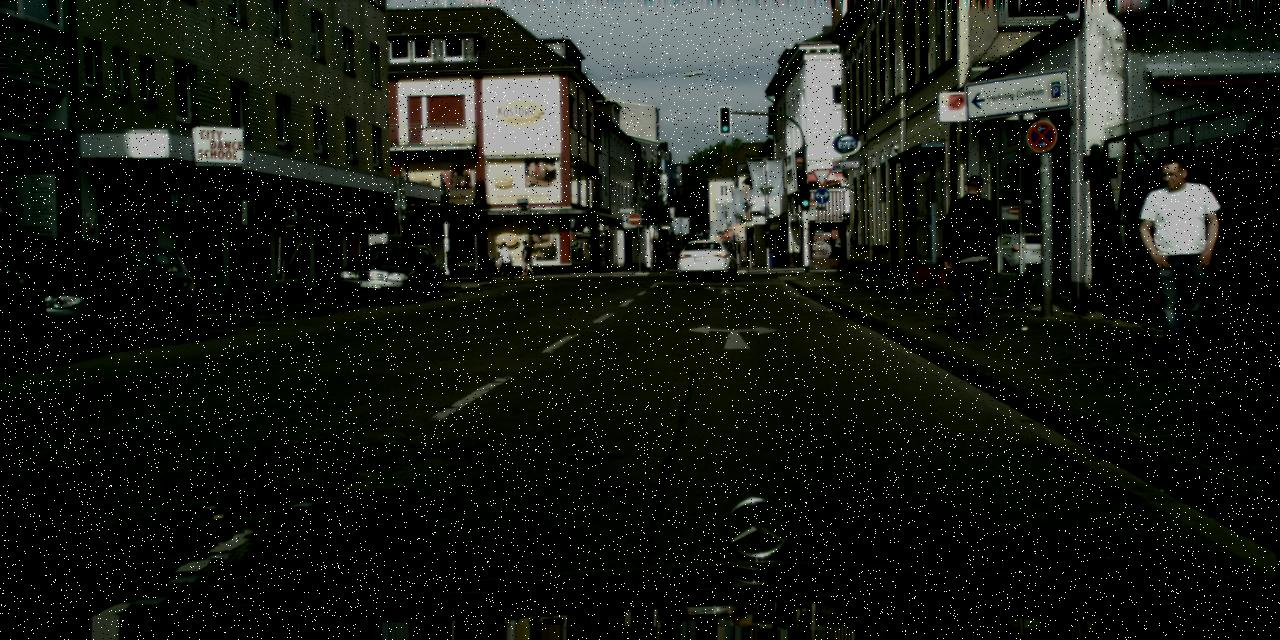ped: (1136, 155, 1220, 362), (939, 174, 1004, 334), (496, 242, 514, 280), (518, 240, 532, 274), (664, 249, 678, 266)
